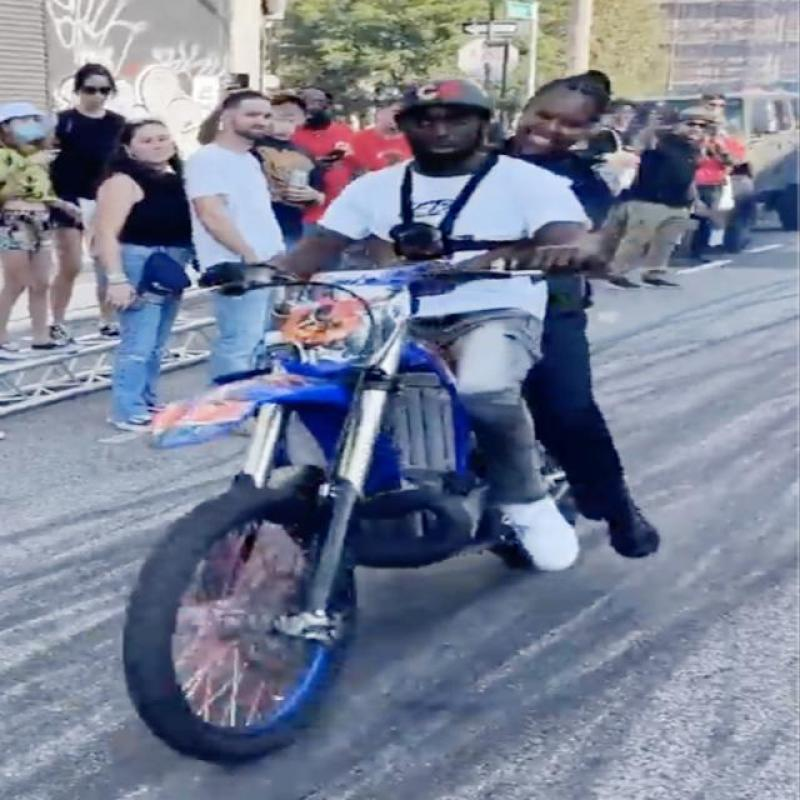nohelmet: (384, 74, 506, 167), (518, 70, 616, 164)
